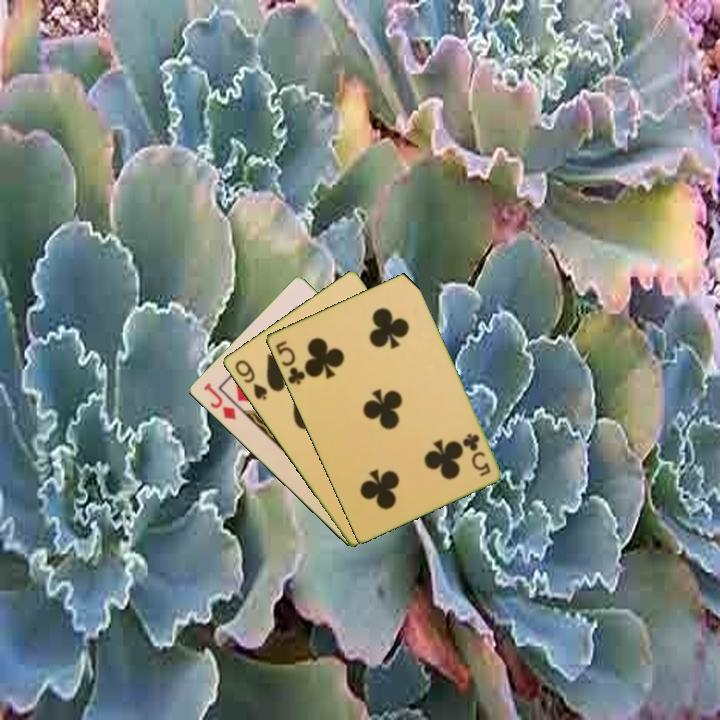5c: (271, 337, 308, 388), (459, 429, 493, 479)
9s: (231, 356, 270, 403)
Jd: (199, 379, 239, 423)
